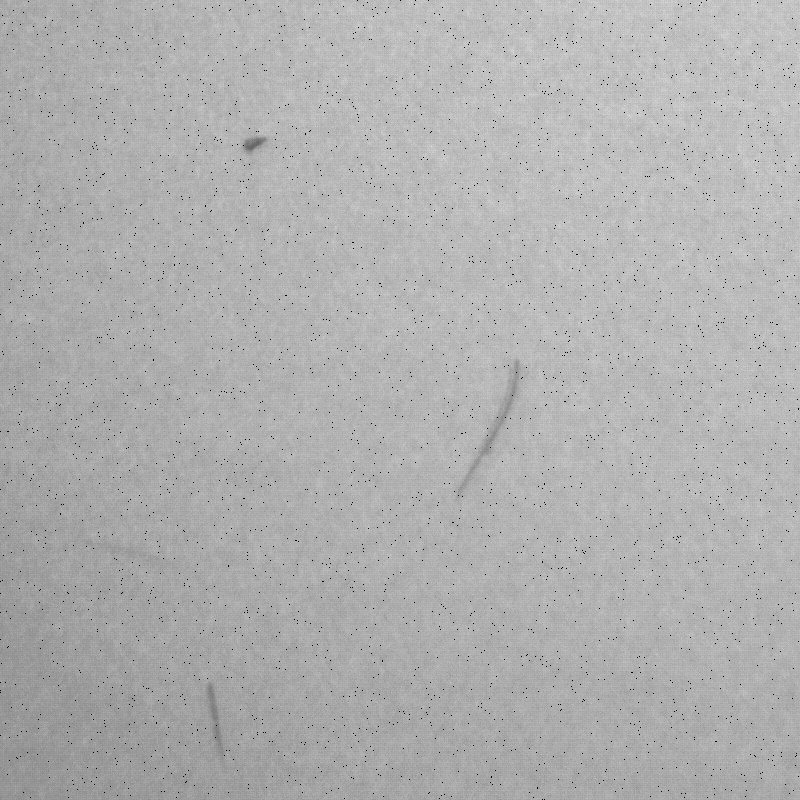defect: (450, 356, 524, 502), (196, 681, 238, 770), (238, 130, 271, 158)
